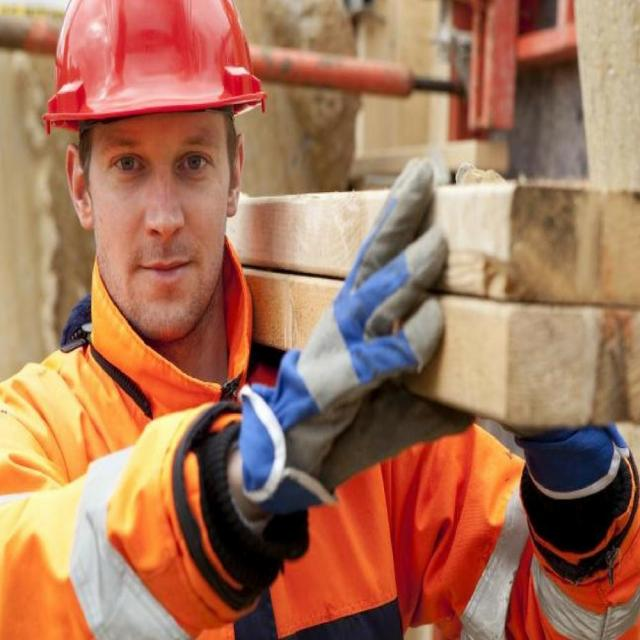Reflective-Jacket: (0, 280, 409, 640), (464, 436, 640, 640)
Safety-Helmet: (44, 0, 266, 135)
